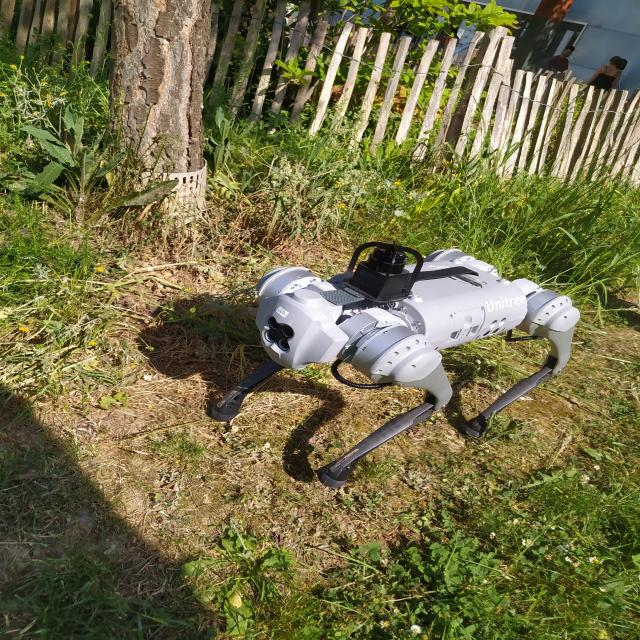unitree-go1-robot: (190, 228, 590, 498)
